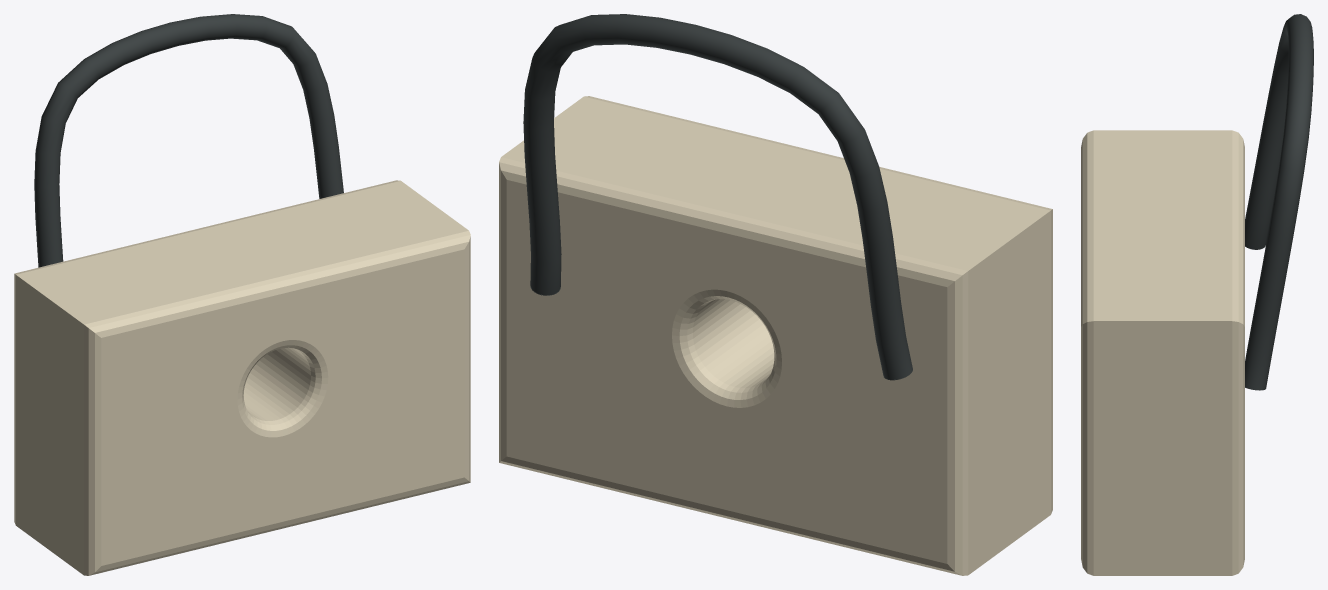
The model's file is indoor-climbing-and-bouldering-gym-indoor-climbing-and-6631e1ed__31552.glb.
3 renders of one model, left to right at view 1: azimuth 30°, elevation 25°; view 2: azimuth 150°, elevation 25°; view 3: azimuth 270°, elevation 25°, orthographic. The views are drawn at different scales.
Visible parts, largest first — view 1: indoor-climbing-and-bouldering-gym-portable-finger-strength- (×2); view 2: indoor-climbing-and-bouldering-gym-portable-finger-strength- (×2); view 3: indoor-climbing-and-bouldering-gym-portable-finger-strength- (×2).
Boxes of the visible parts, x1,y1,x2,y2 form: indoor-climbing-and-bouldering-gym-portable-finger-strength- (×2): (14, 14, 470, 575); indoor-climbing-and-bouldering-gym-portable-finger-strength- (×2): (499, 14, 1052, 575); indoor-climbing-and-bouldering-gym-portable-finger-strength- (×2): (1081, 14, 1313, 575).
Bounding box in the file's own units: 0.212 × 0.2266 × 0.1094.
